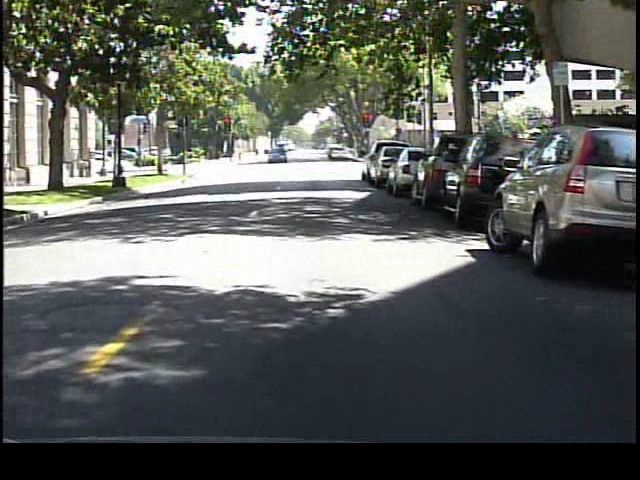person: (235, 140, 248, 165)
